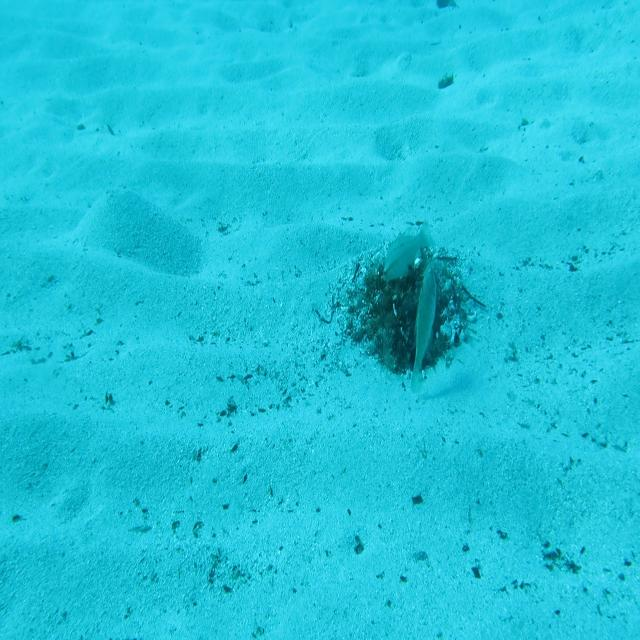GB: (407, 262, 440, 396)
female: (383, 222, 436, 284)
nest: (337, 240, 480, 385)
